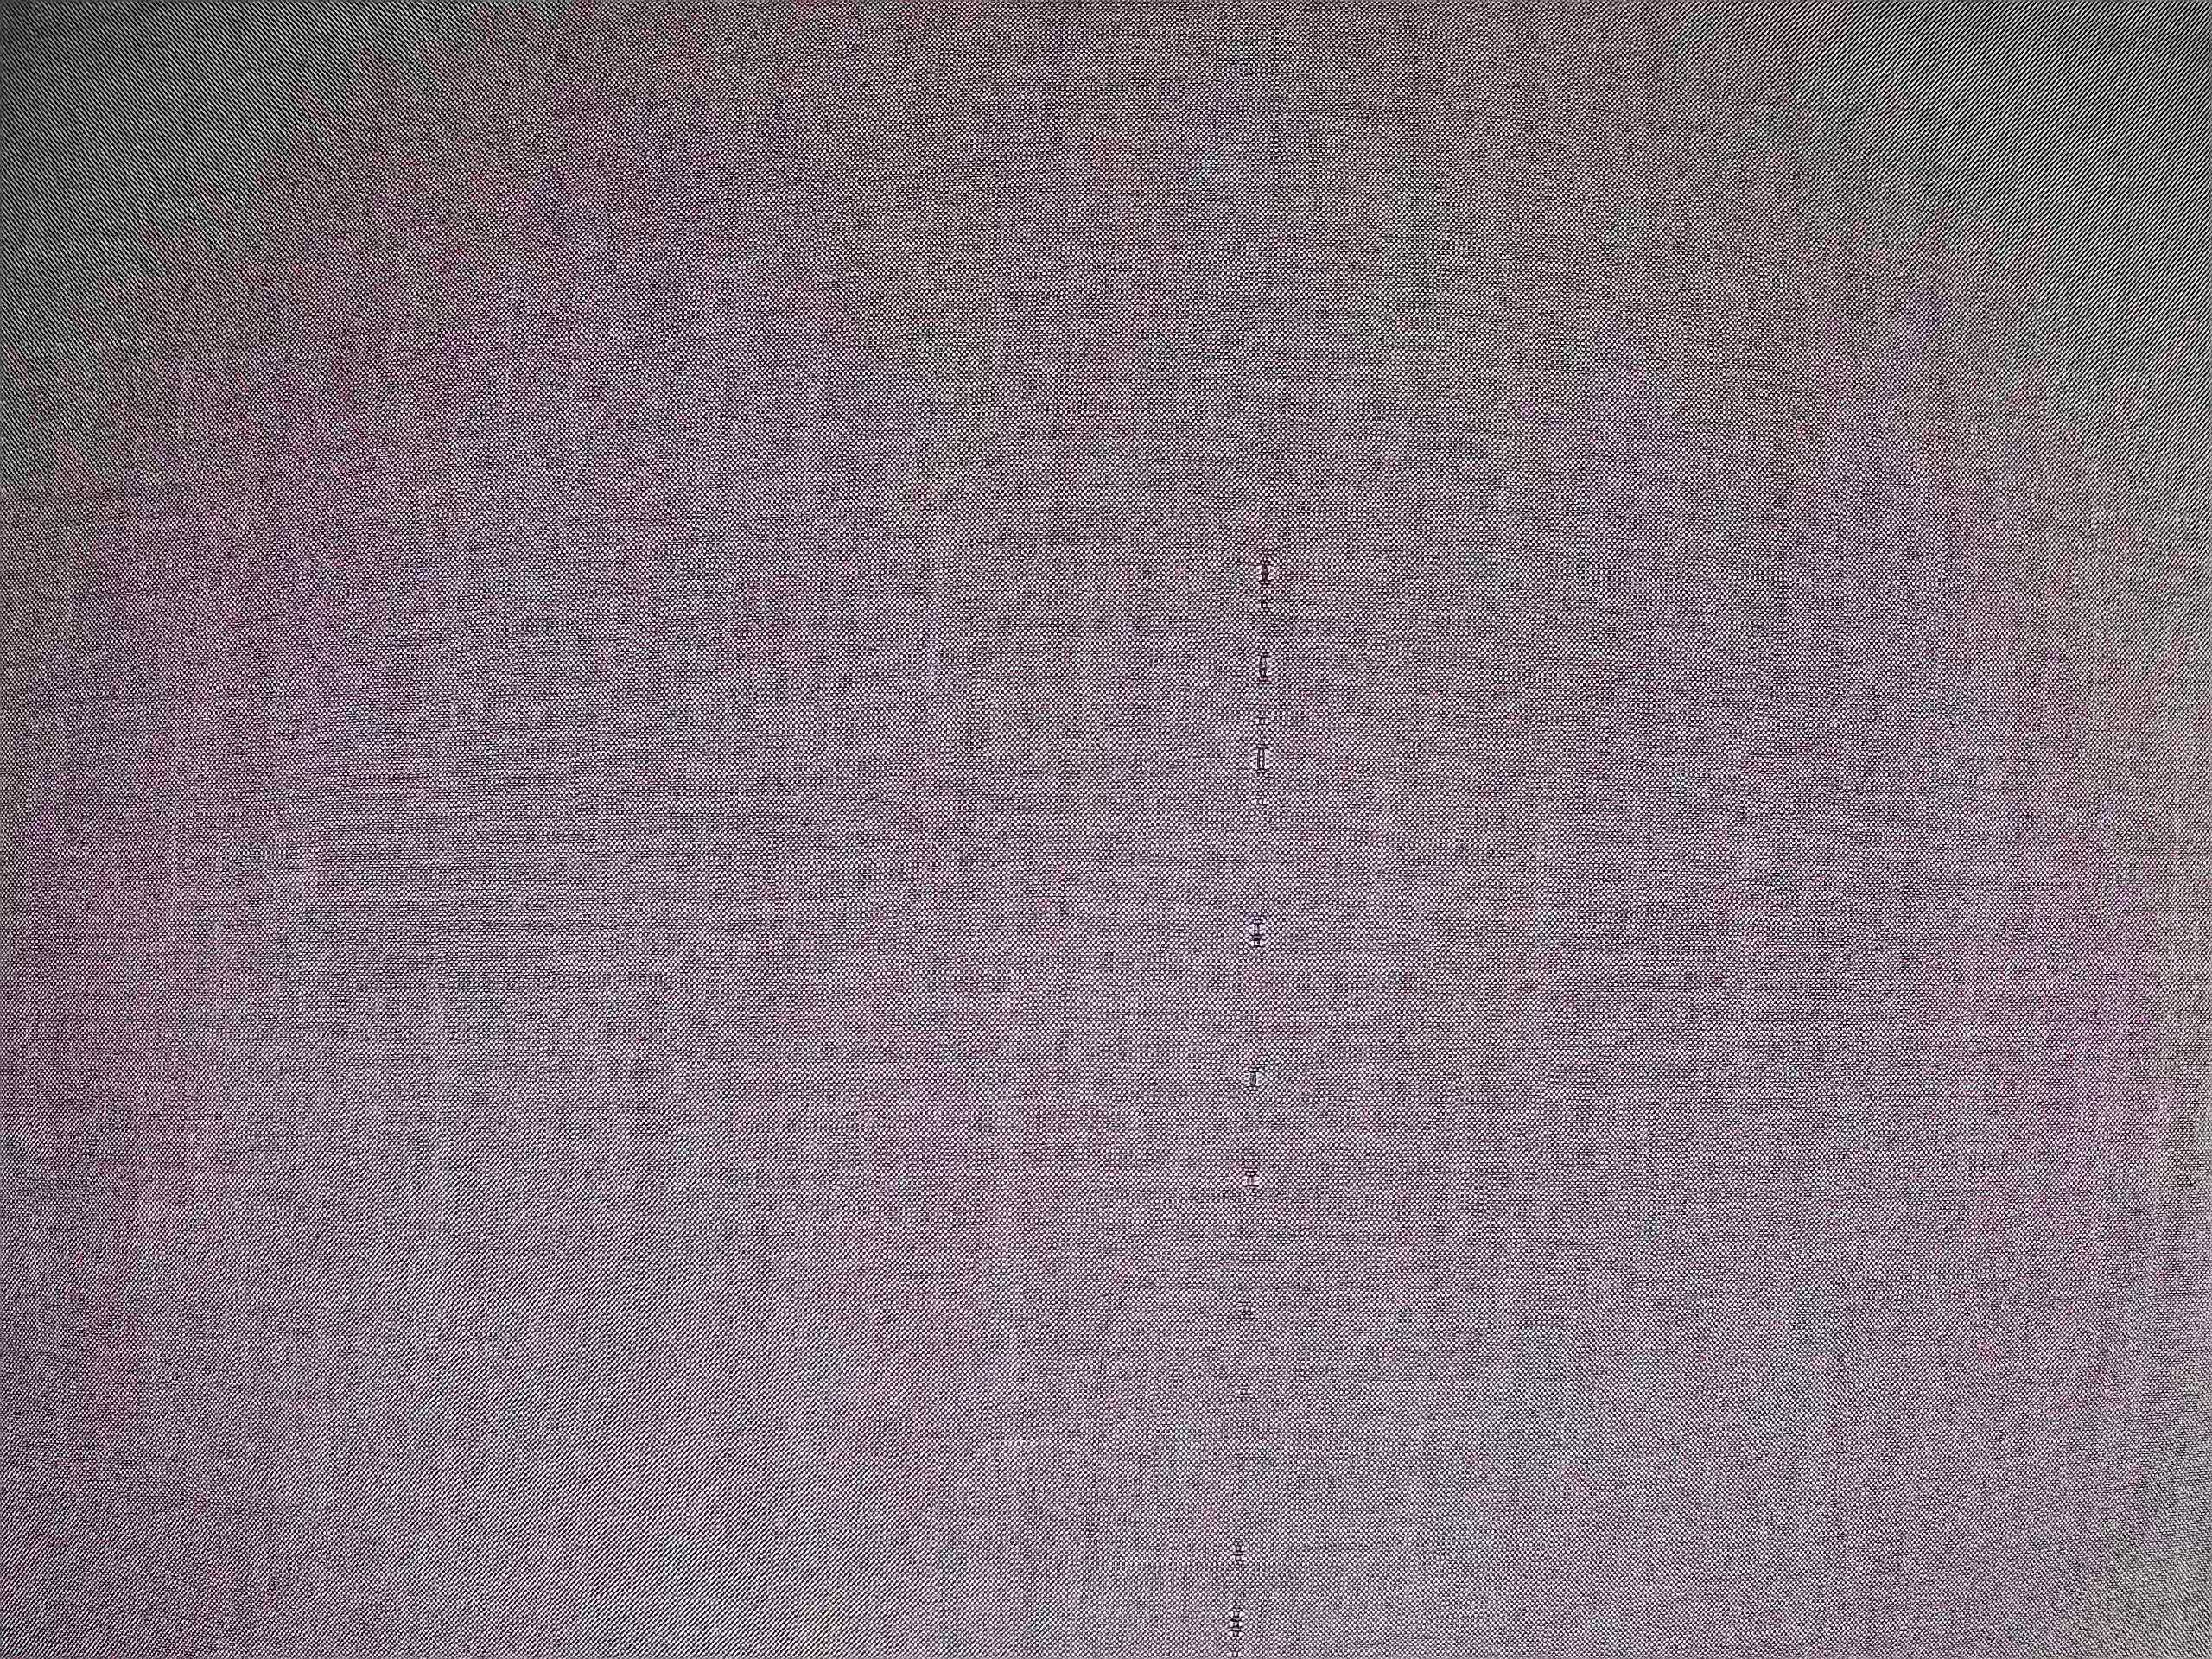jumps: (1205, 538, 1301, 1642)
